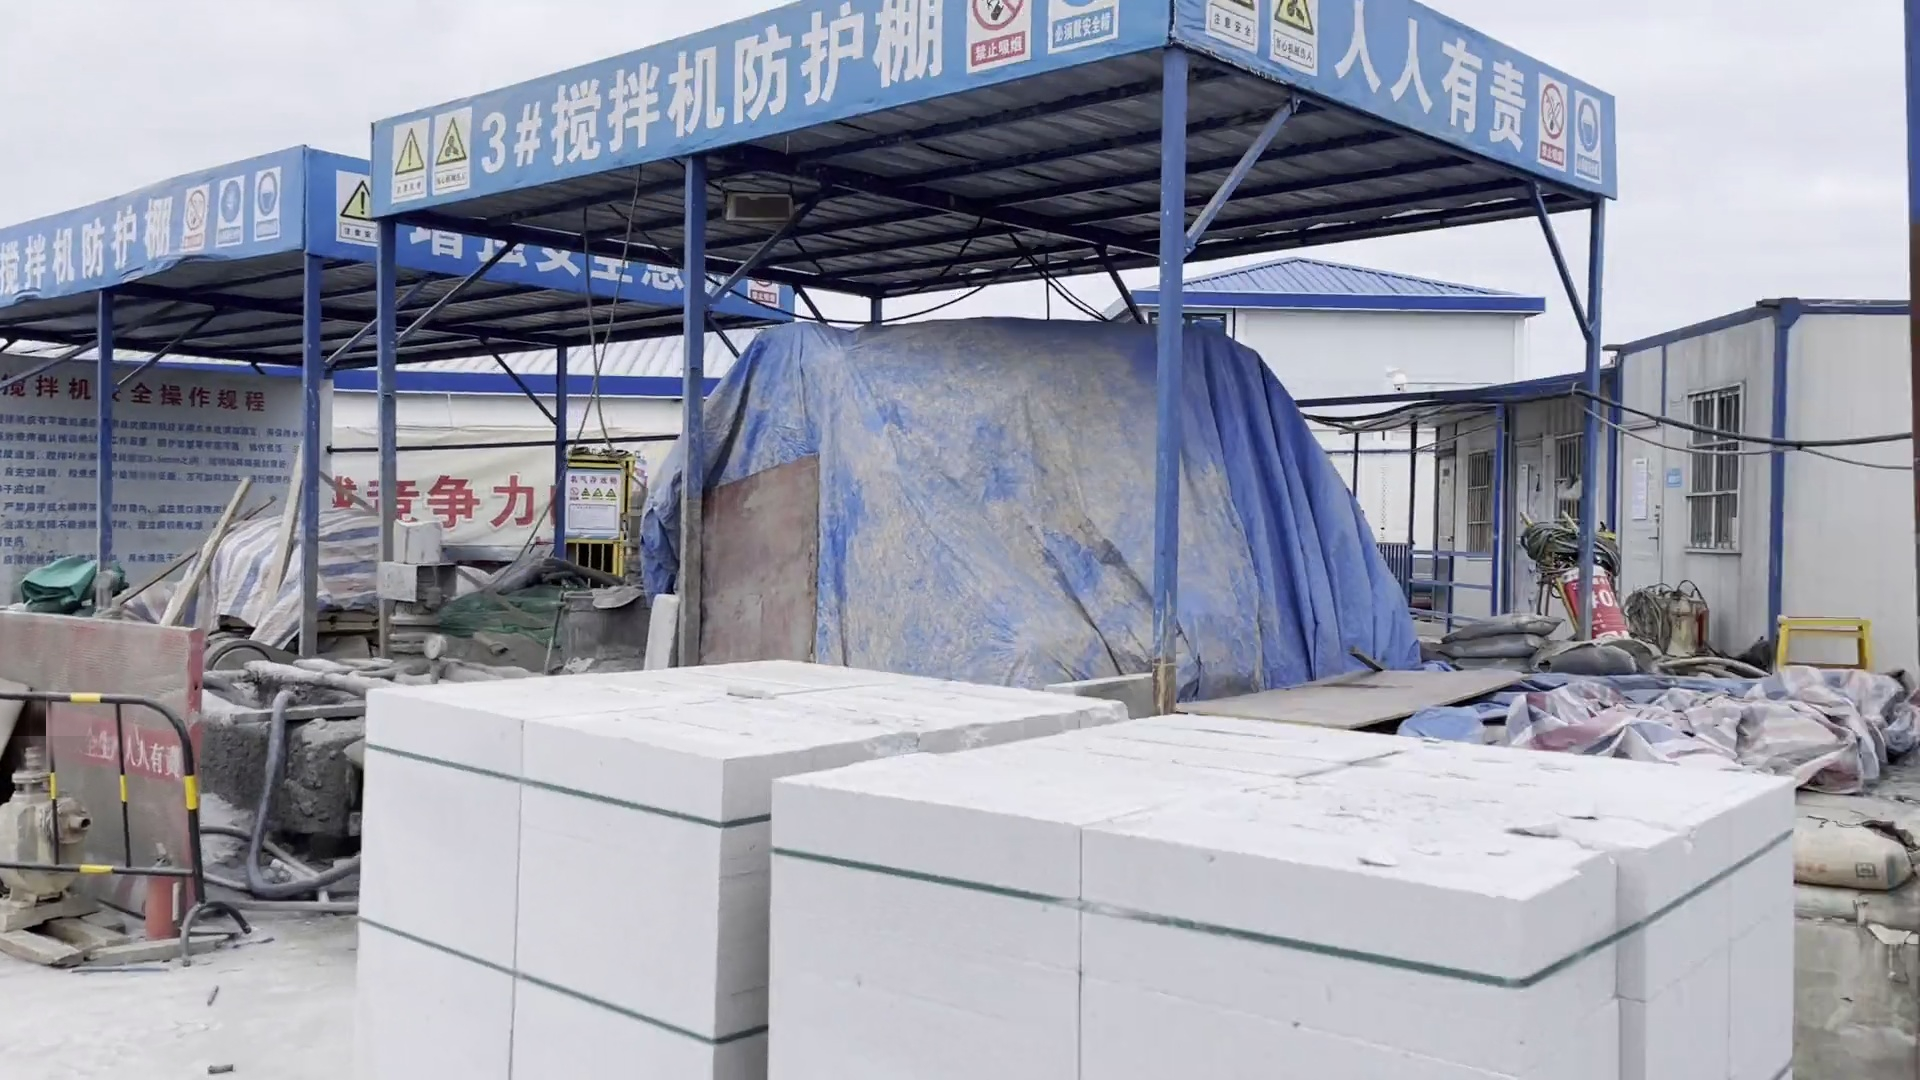brick: (348, 655, 1809, 1080)
slogan: (1337, 1, 1524, 154)
